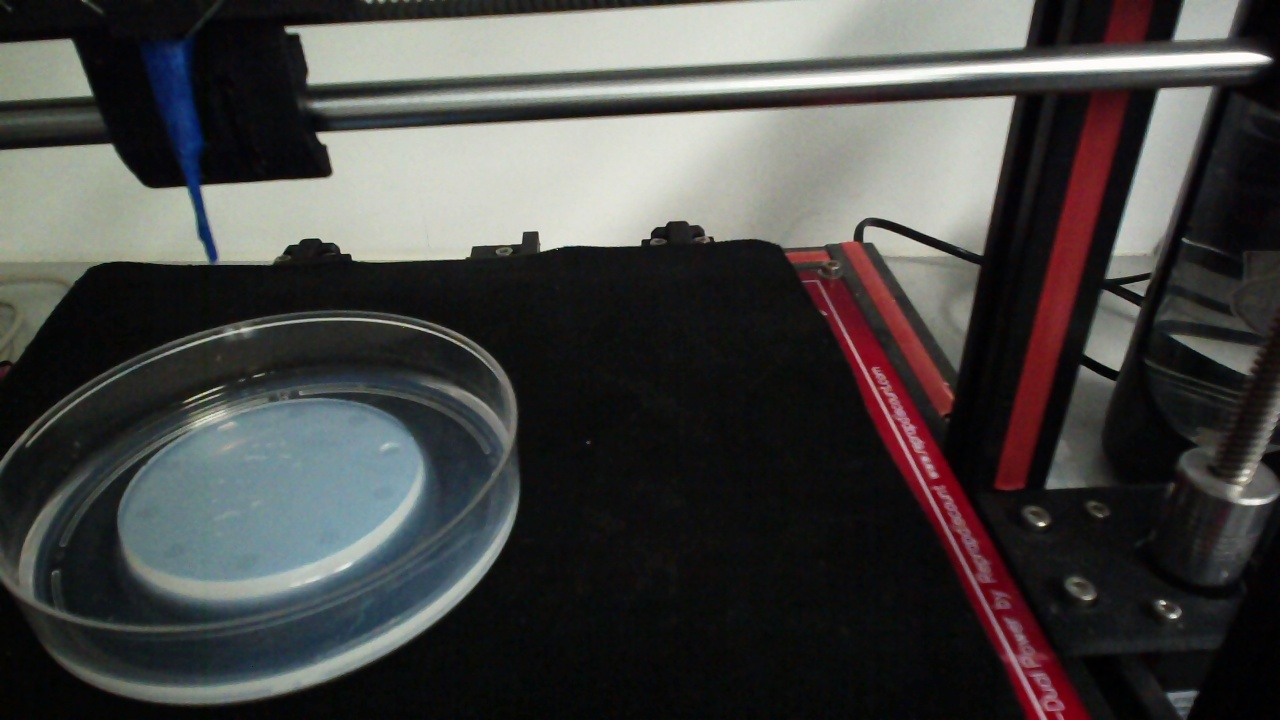groove: (311, 526, 344, 549), (230, 549, 261, 573), (159, 540, 189, 563), (370, 480, 400, 501), (131, 501, 164, 520), (159, 456, 192, 475), (282, 401, 310, 423), (375, 440, 404, 460), (344, 409, 368, 429), (216, 420, 239, 436)
needle: (141, 49, 217, 262)
